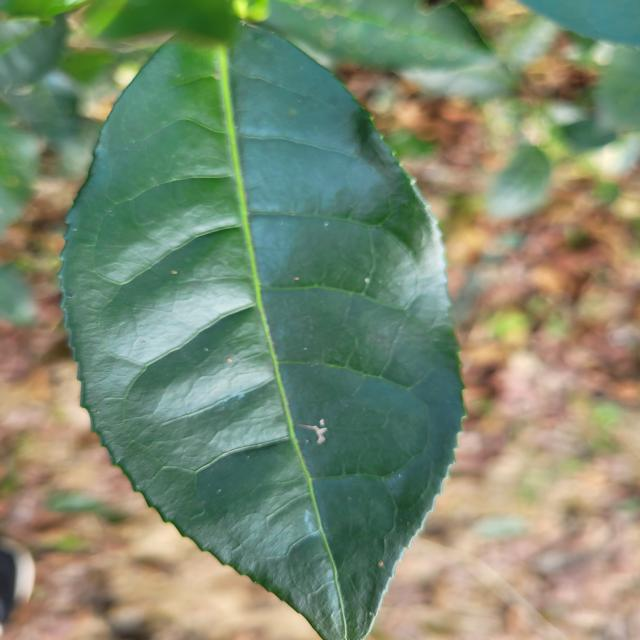Category D(7+ days, Not for Tea): (51, 11, 485, 640)
